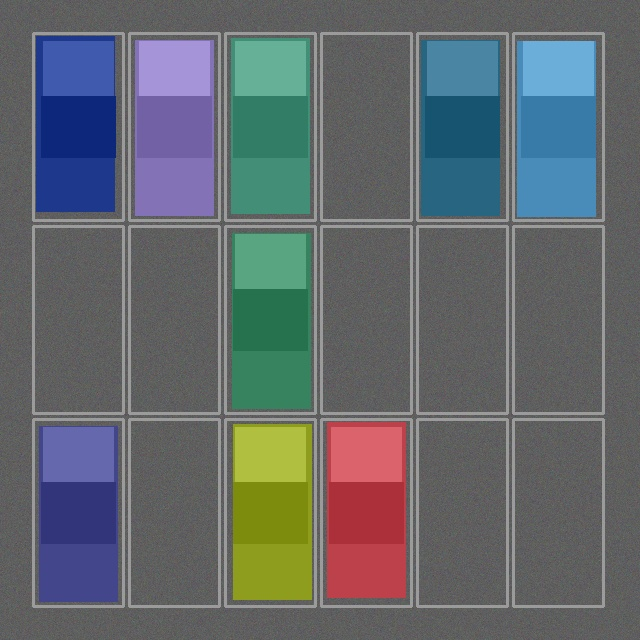space-empty: (323, 35, 409, 218), (35, 228, 121, 411), (131, 228, 217, 411), (323, 228, 409, 411), (419, 228, 505, 411), (515, 228, 601, 411), (131, 421, 217, 604), (419, 421, 505, 604), (515, 421, 601, 604)
space-occupied: (35, 35, 121, 218), (131, 35, 217, 218), (227, 35, 313, 218), (419, 35, 505, 218), (515, 35, 601, 218), (227, 228, 313, 411), (35, 421, 121, 604), (227, 421, 313, 604), (323, 421, 409, 604)
